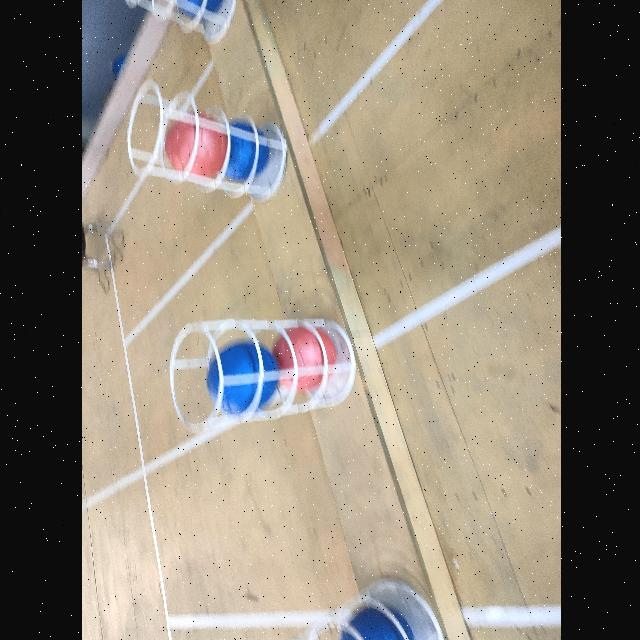B: (206, 342, 278, 416), (220, 121, 268, 179), (339, 604, 413, 640), (170, 0, 220, 18)
R: (164, 112, 226, 178), (272, 326, 334, 390)
